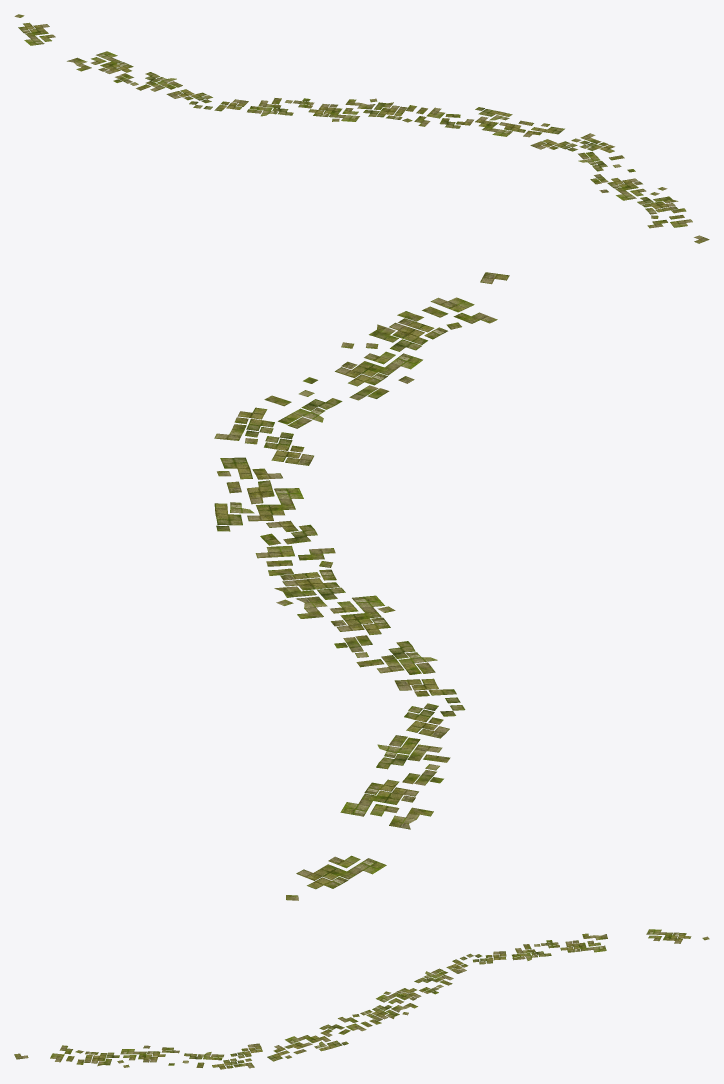
Rendered from mesh_jungle_hatchery_road.FBX.
3 views of the same model, one above another, from view 1: azimuth 30°, elevation 25°; view 2: azimuth 150°, elevation 25°; view 3: azimuth 270°, elevation 25° (orthographic). The views are drawn at different scales.
Parts seen in each view (by area): view 1: mesh_jungle_hatchery_road; view 2: mesh_jungle_hatchery_road; view 3: mesh_jungle_hatchery_road.
Part boxes in pixels (x1,y1,x2,y2): mesh_jungle_hatchery_road: (14,14,709,243); mesh_jungle_hatchery_road: (214,272,509,900); mesh_jungle_hatchery_road: (14,929,709,1069).
Bounding box in the file's own units: 65.68 × 6.22e-06 × 138.
